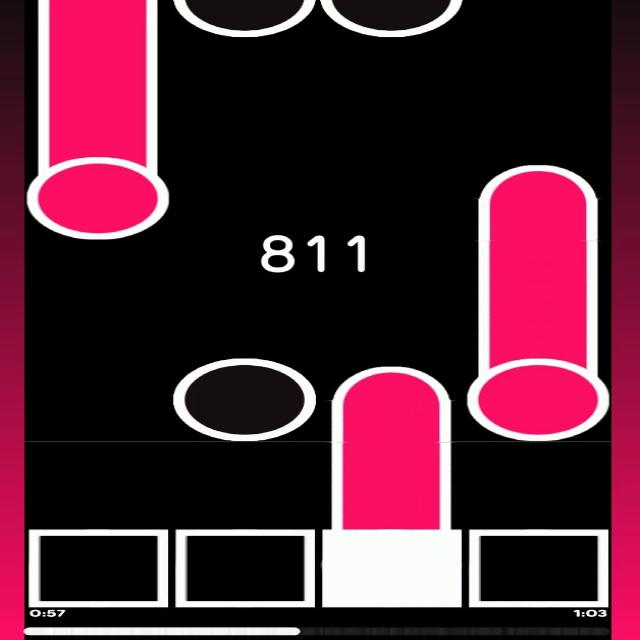end_hold: (479, 159, 597, 205), (331, 358, 452, 402)
note: (173, 358, 314, 443), (173, 0, 314, 37), (322, 0, 466, 36)
start_hold: (29, 142, 170, 239), (468, 344, 608, 441)
